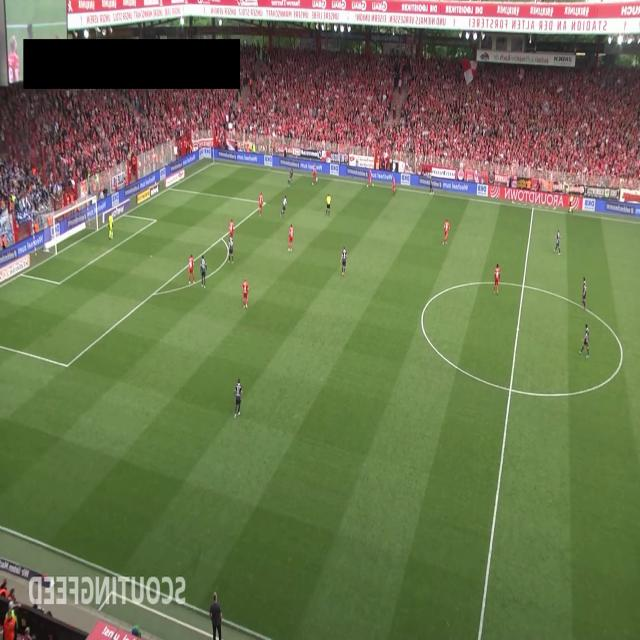ball: (316, 178, 318, 182)
goalkeeper: (108, 211, 114, 239)
player: (578, 323, 590, 357), (234, 377, 242, 419), (493, 263, 501, 295), (340, 246, 348, 277), (200, 255, 207, 288), (188, 253, 195, 284), (442, 219, 450, 246), (554, 229, 562, 255), (287, 224, 294, 252), (242, 278, 248, 310), (228, 233, 234, 264), (229, 218, 234, 247), (582, 276, 586, 310), (281, 195, 287, 217), (258, 192, 263, 217), (428, 174, 434, 194), (367, 168, 373, 188), (312, 166, 318, 186), (288, 168, 294, 186), (392, 176, 396, 196)
referee: (568, 192, 574, 213), (326, 193, 331, 216)
